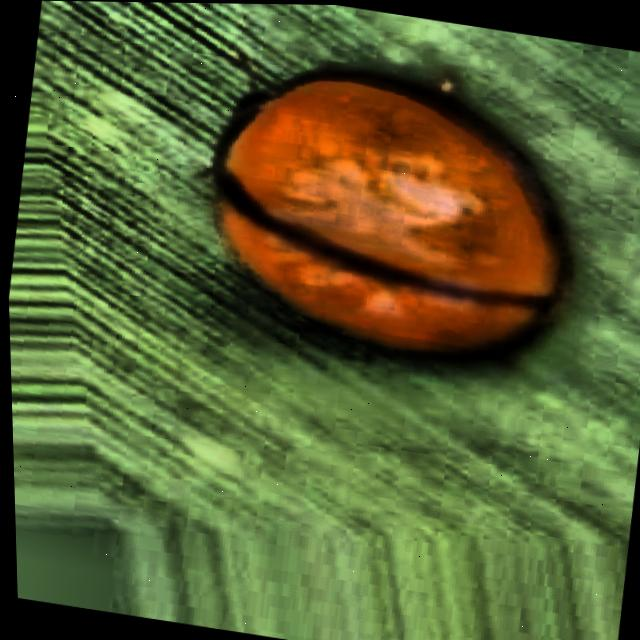Ladybug: (83, 1, 640, 452)
